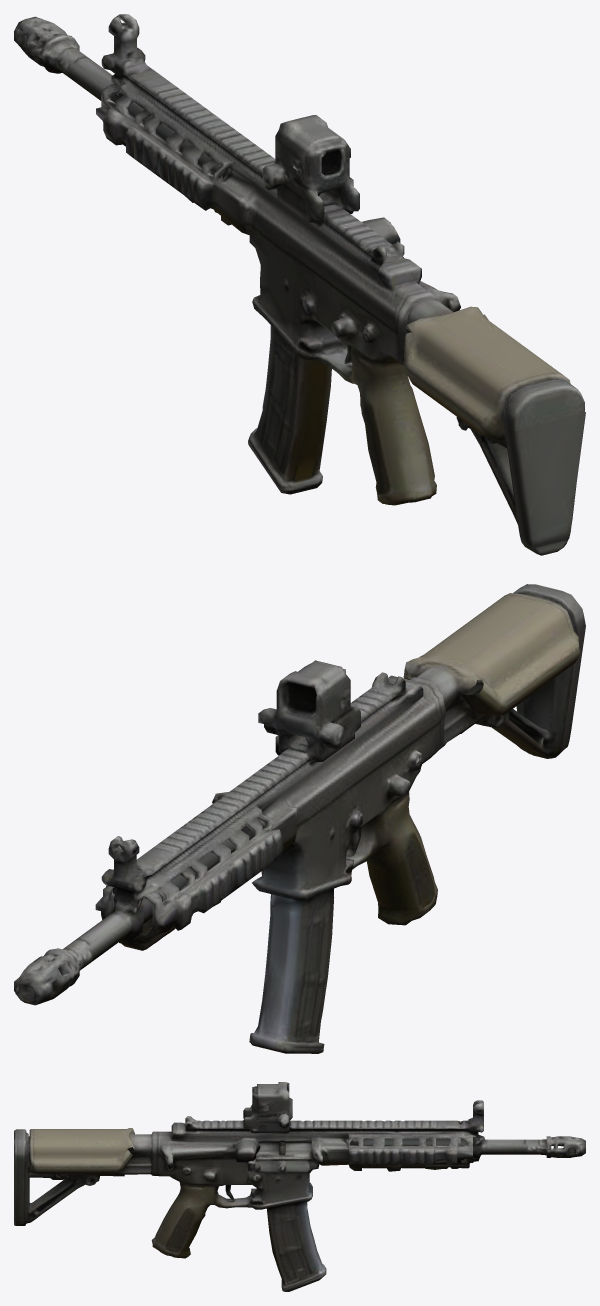
Rendered from carbine.glb.
3 views of the same model, one above another, from view 1: azimuth 30°, elevation 25°; view 2: azimuth 150°, elevation 25°; view 3: azimuth 270°, elevation 25° (orthographic). The views are drawn at different scales.
Visible parts, largest first — view 1: tripo_node_2ed48a27-bf54-48cc-87a2-4848cba83270; view 2: tripo_node_2ed48a27-bf54-48cc-87a2-4848cba83270; view 3: tripo_node_2ed48a27-bf54-48cc-87a2-4848cba83270.
Part boxes in pixels (<box>): tripo_node_2ed48a27-bf54-48cc-87a2-4848cba83270: <box>14,14,585,555</box>; tripo_node_2ed48a27-bf54-48cc-87a2-4848cba83270: <box>14,584,585,1053</box>; tripo_node_2ed48a27-bf54-48cc-87a2-4848cba83270: <box>14,1082,585,1291</box>.
Size of the model in its own units: 0.1155 by 0.3894 by 1.
Materials: 1 (1 with a texture image).
